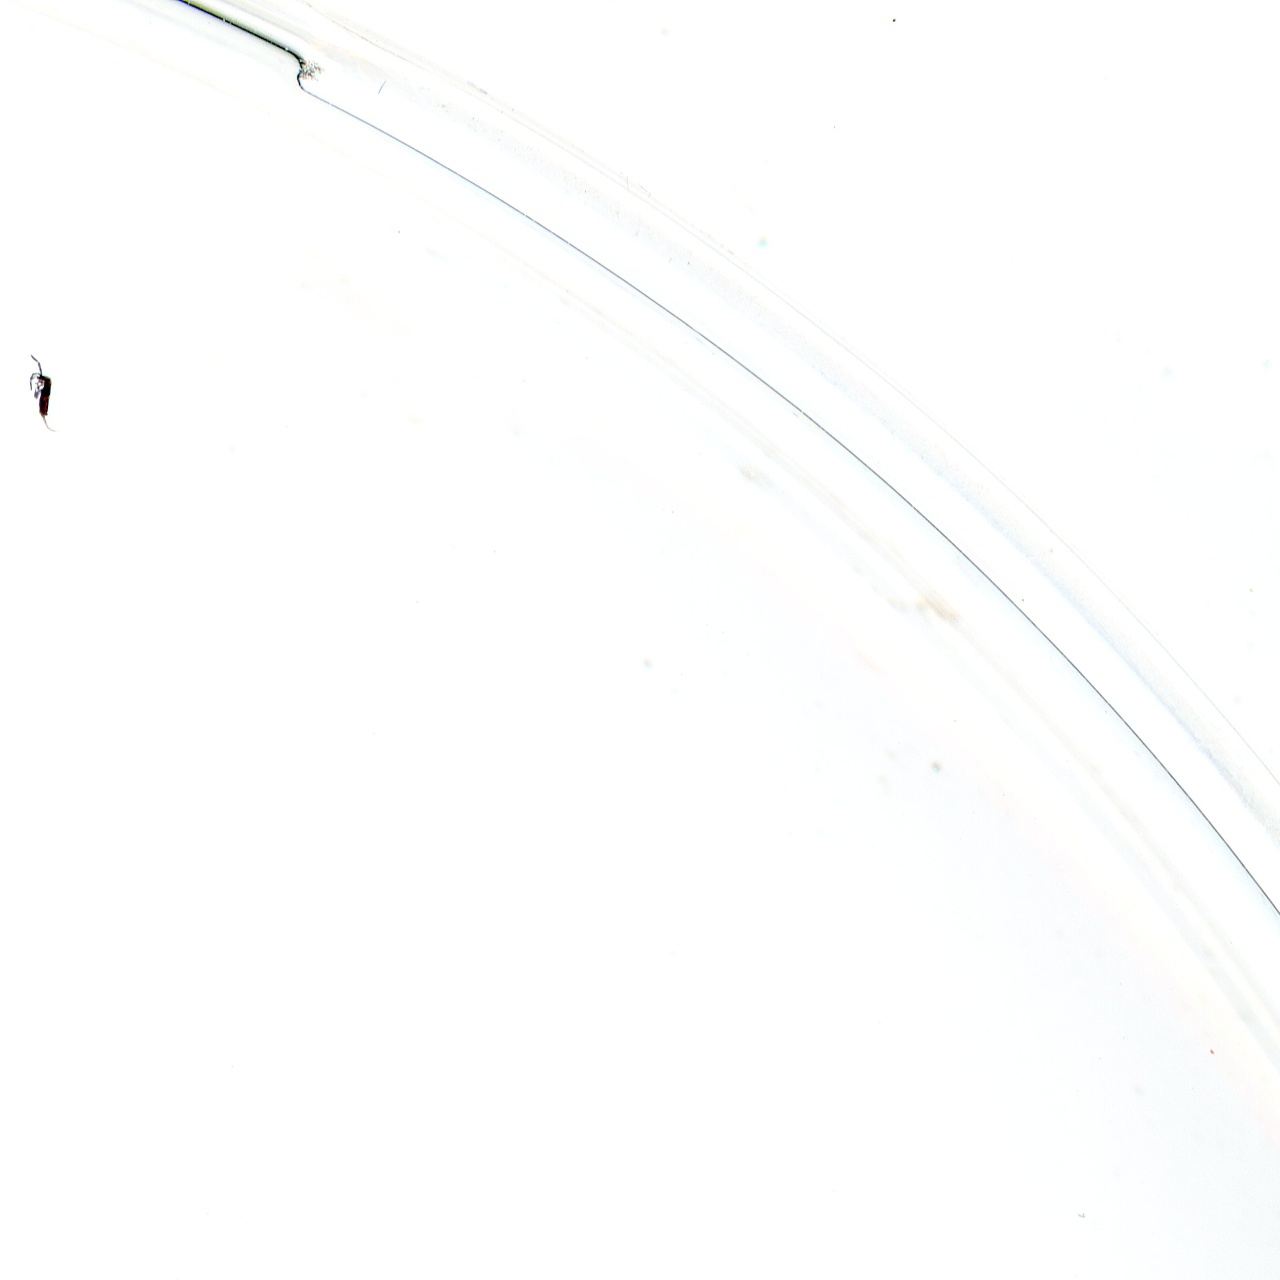arthropod: (23, 350, 62, 437)
